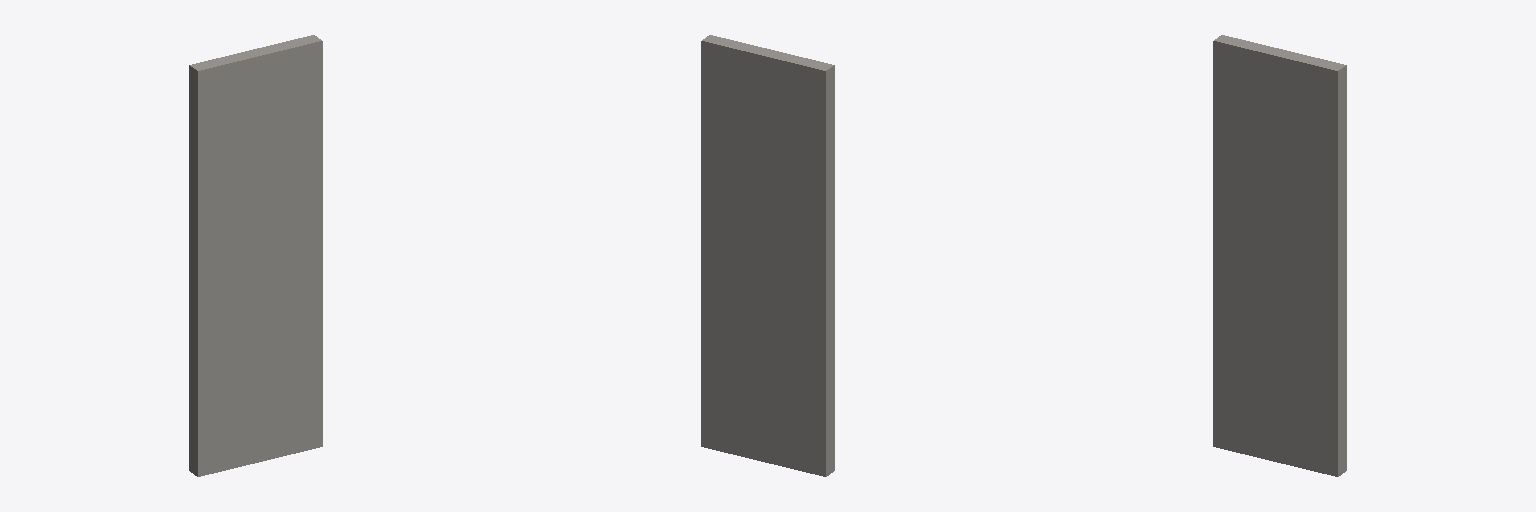
Rendered from StoneVeneer.obj.
3 renders of one model, left to right at view 1: azimuth 30°, elevation 25°; view 2: azimuth 150°, elevation 25°; view 3: azimuth 330°, elevation 25°, orthographic.
Visible parts, largest first — view 1: StoneVeneer; view 2: StoneVeneer; view 3: StoneVeneer.
Boxes of the visible parts, x1=… form: StoneVeneer: x1=189, y1=35, x2=322, y2=476; StoneVeneer: x1=701, y1=35, x2=834, y2=476; StoneVeneer: x1=1213, y1=35, x2=1346, y2=476.
Size of the model in its own units: 0.8795 by 2.74 by 0.1016.